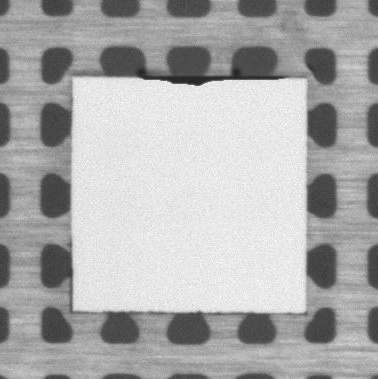DIE_BROKEN: (140, 70, 292, 88)
